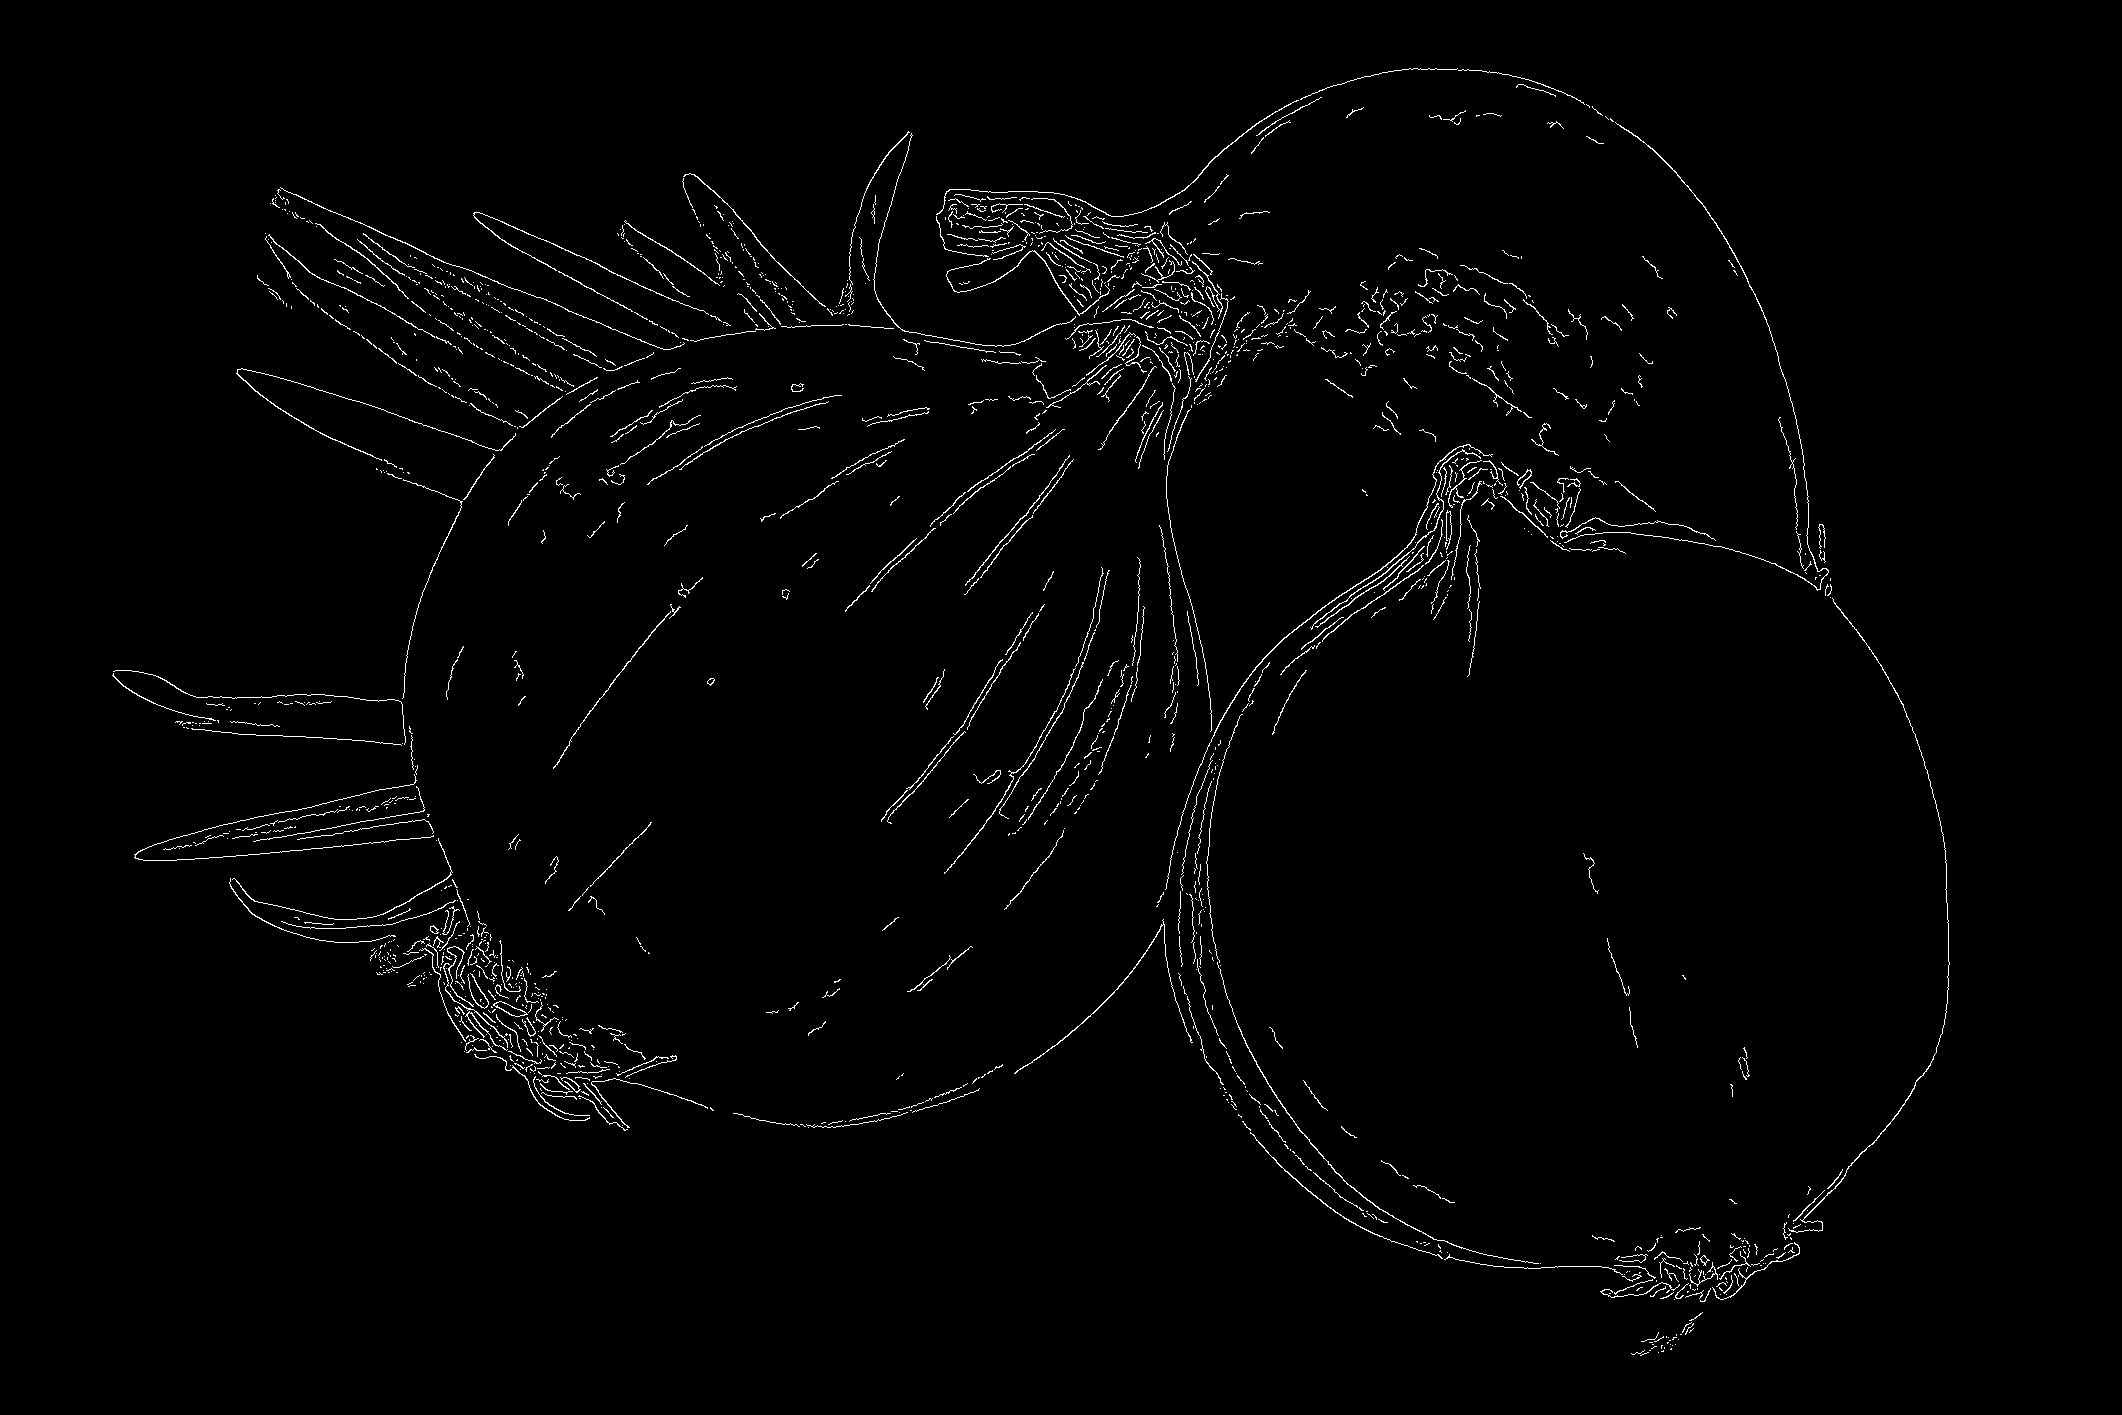onion: (332, 268, 1175, 1131), (1213, 441, 1966, 1336), (1151, 55, 1857, 587)
